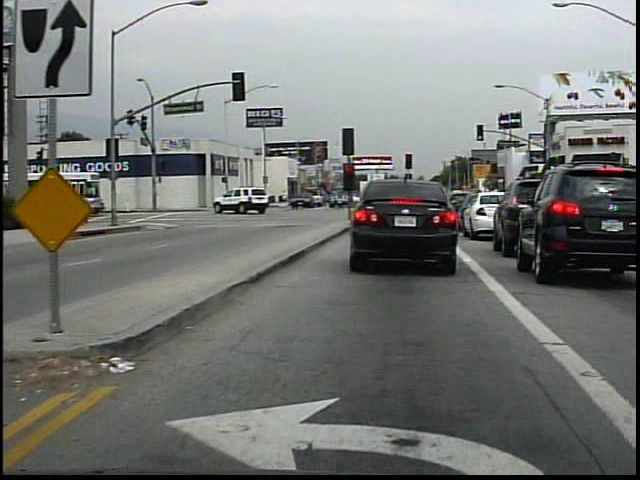person: (79, 189, 99, 226)
